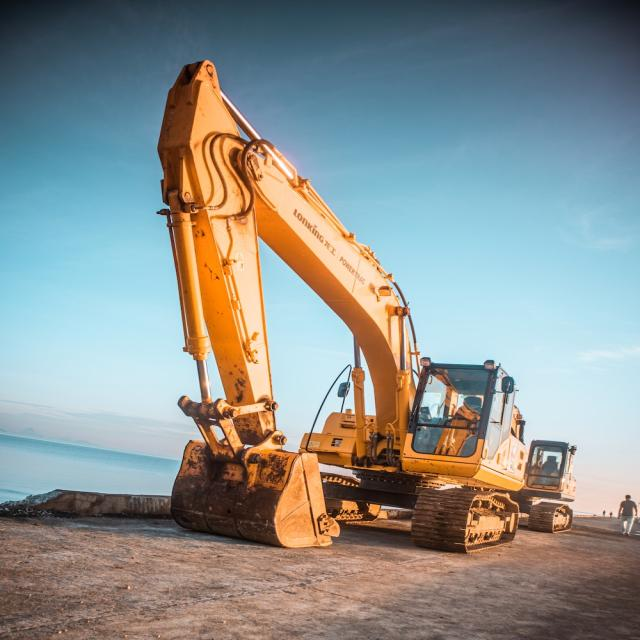excavator: (154, 58, 578, 557)
